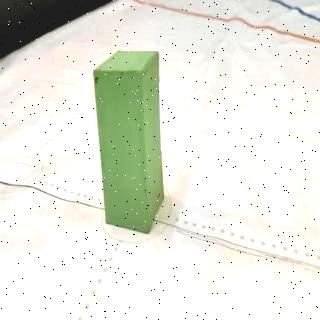greenbox: (94, 48, 170, 235)
